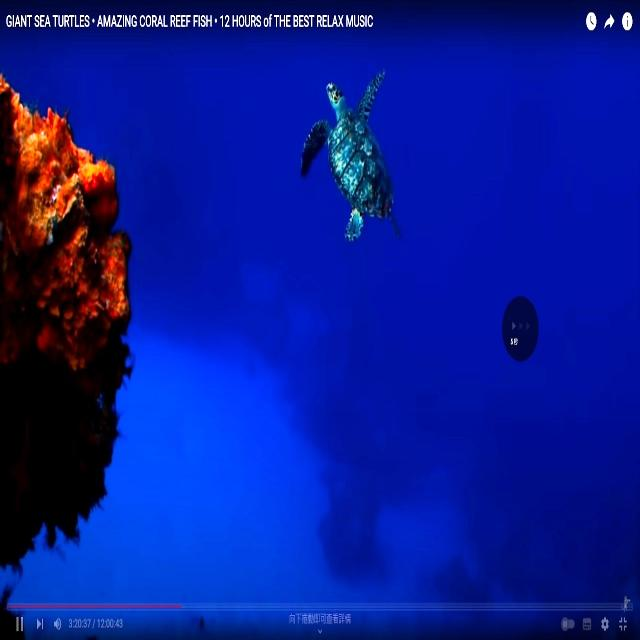Sea turtle: (300, 64, 396, 242)
